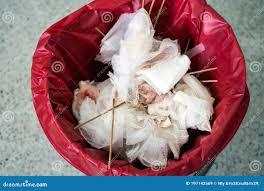cotton: (73, 9, 213, 166), (113, 82, 212, 165), (97, 9, 154, 102), (137, 39, 190, 94), (137, 55, 189, 94)
